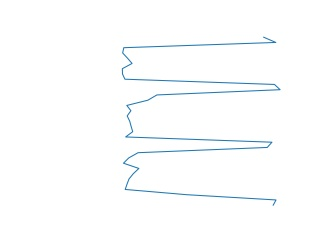majorRiverChannelBar: (118, 36, 284, 206)
